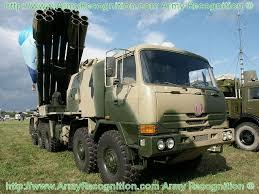MIL_SAM_TEL: (29, 7, 231, 184)
